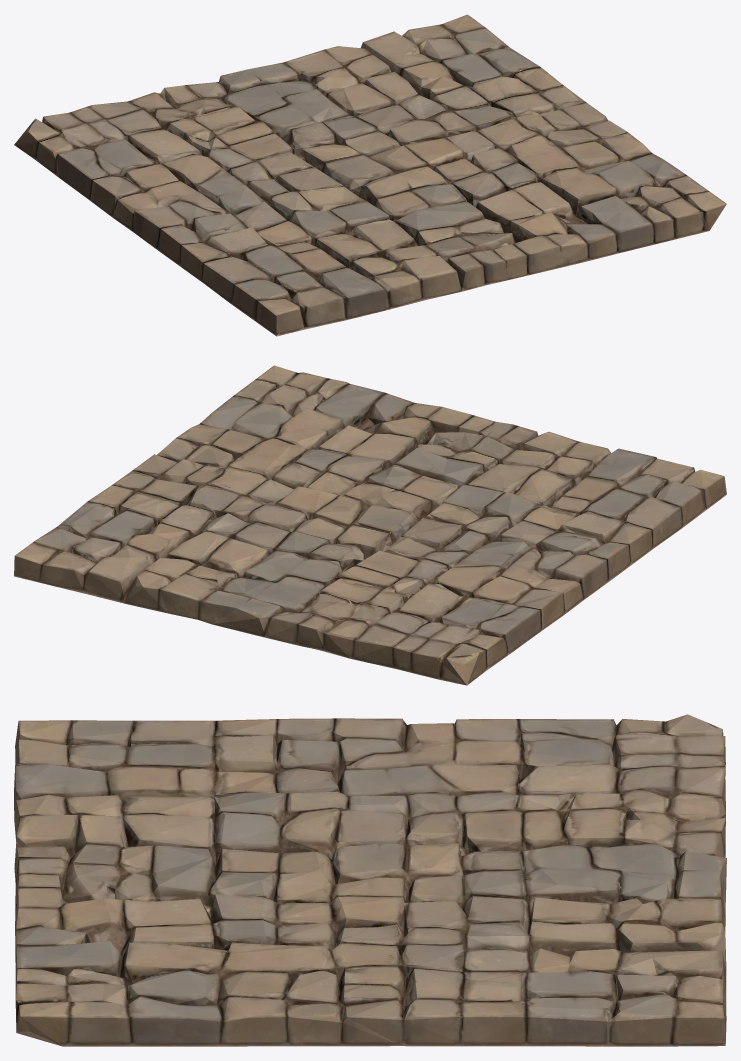
The model's file is gnd_cobble.glb.
3 renders of one model, top to bottom at view 1: azimuth 30°, elevation 25°; view 2: azimuth 150°, elevation 25°; view 3: azimuth 270°, elevation 25°, orthographic. The views are drawn at different scales.
Parts seen in each view (by area): view 1: Cobblestone; view 2: Cobblestone; view 3: Cobblestone.
Part boxes in pixels (box(x1,y1,x2,y2)): Cobblestone: box(14, 14, 726, 336); Cobblestone: box(14, 365, 726, 685); Cobblestone: box(14, 714, 726, 1046).
Size of the model in its own units: 2 by 0.1037 by 2.01.
1 material, 1 textured.
